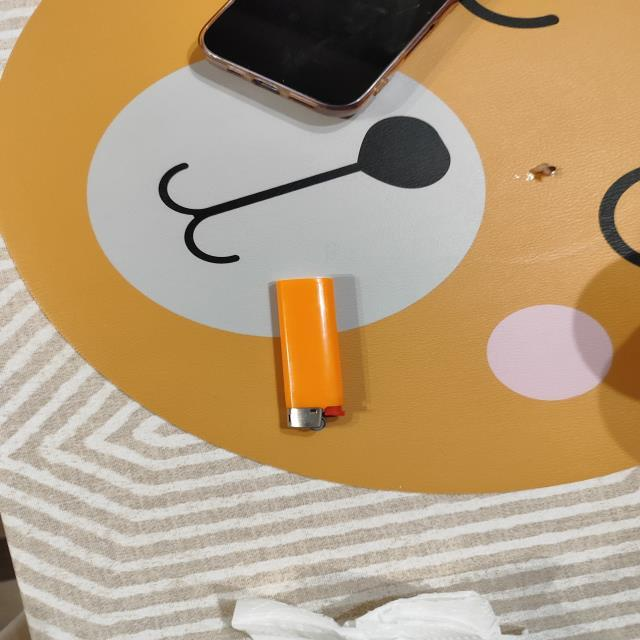lighter: (275, 278, 343, 428)
